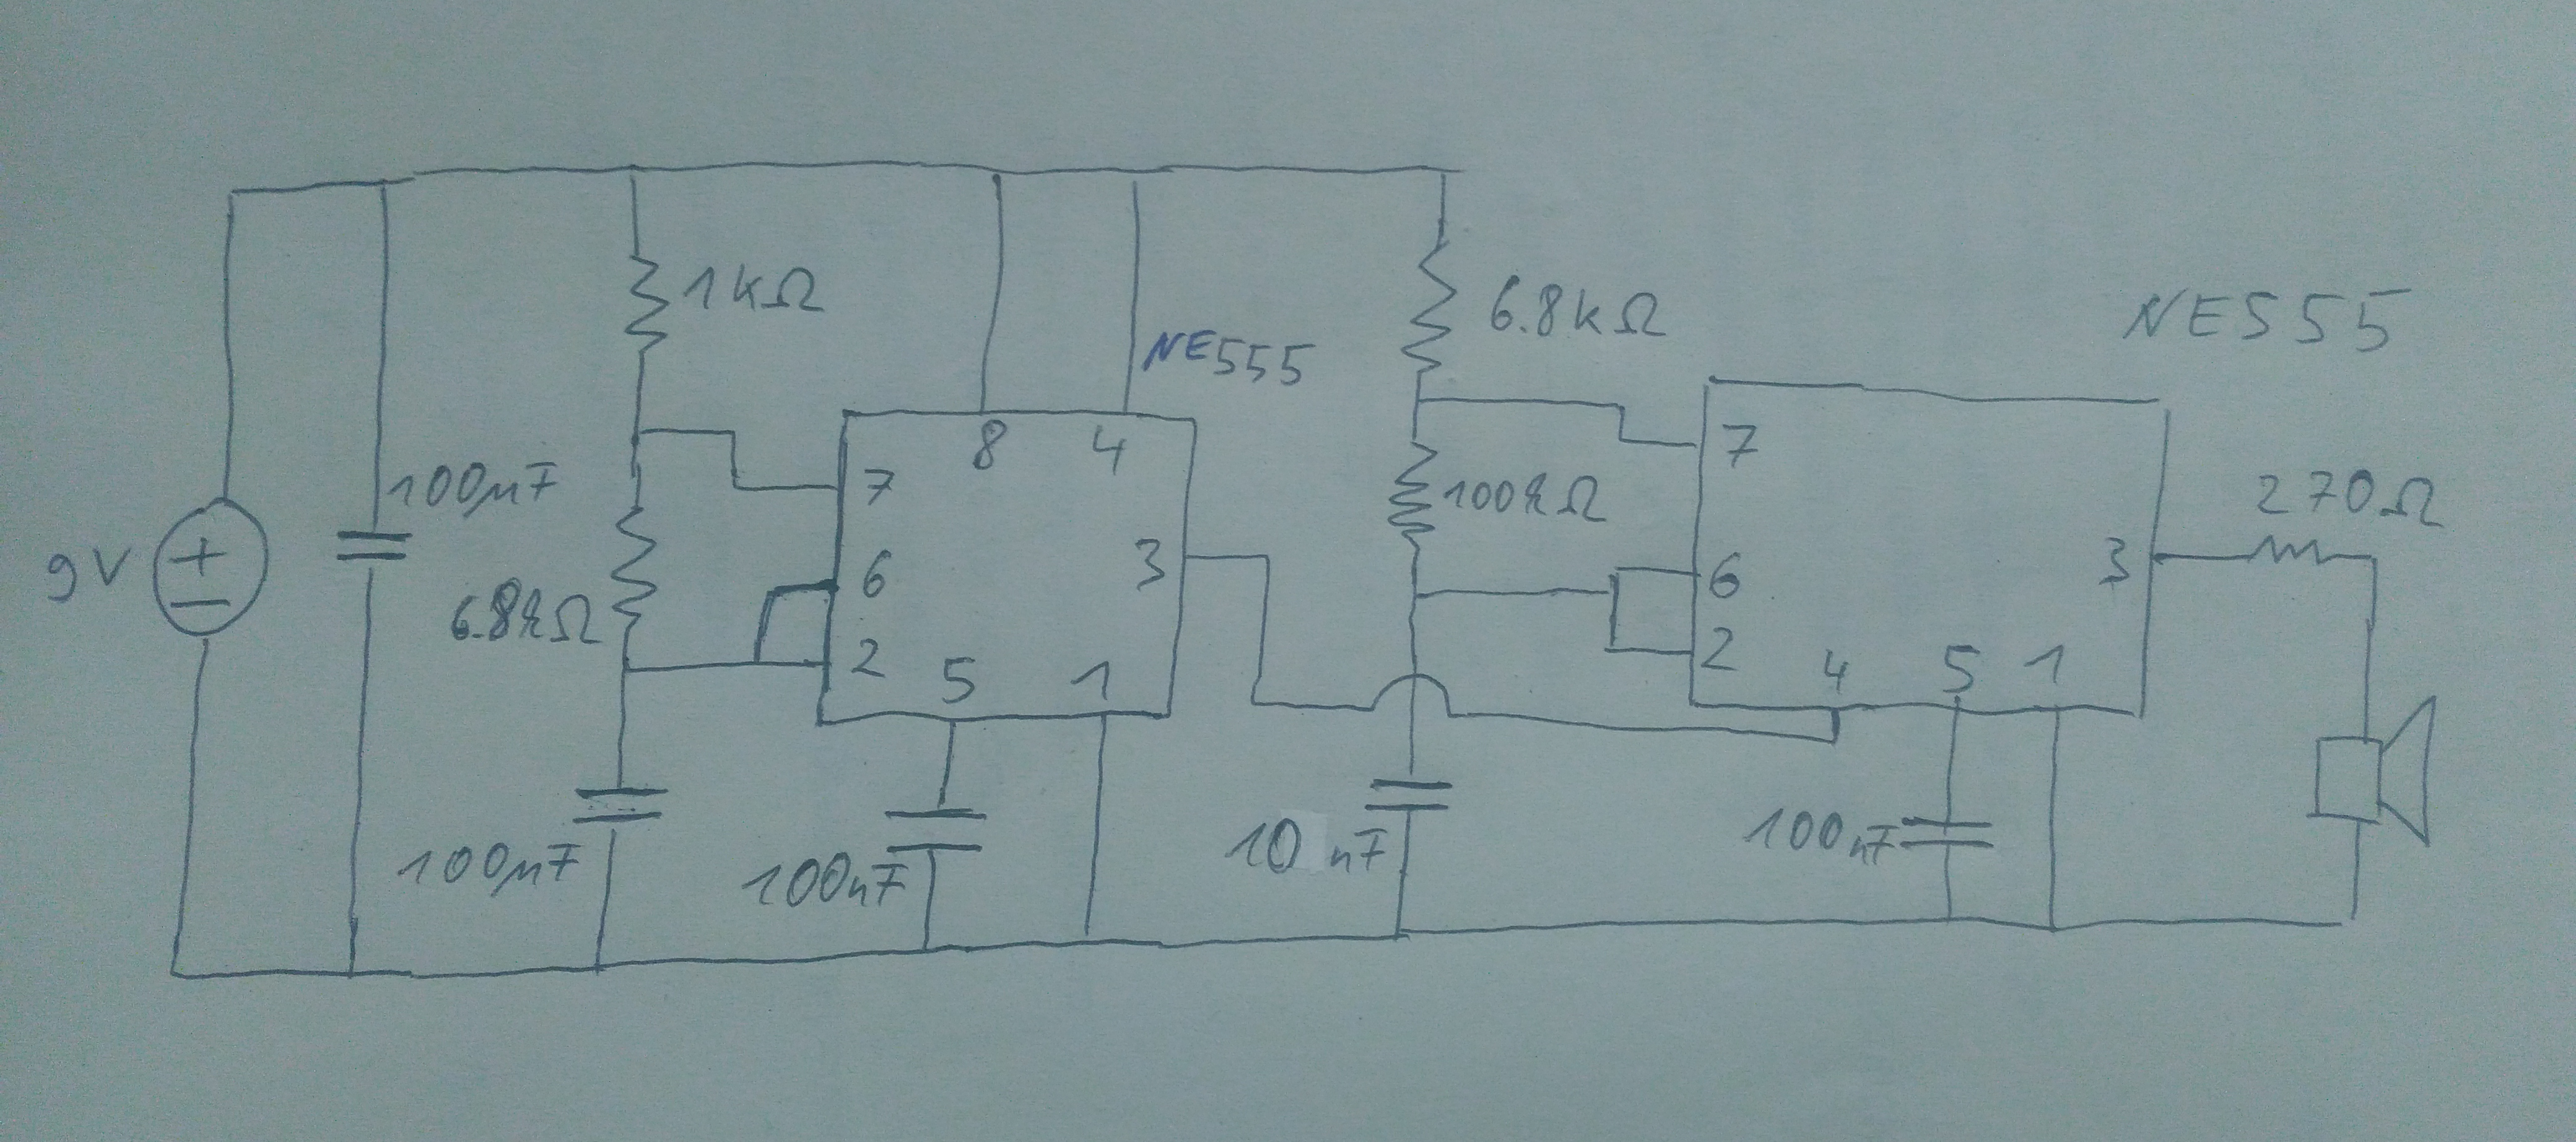capacitor.unpolarized: (881, 804, 991, 859), (570, 781, 670, 828), (330, 524, 417, 570), (1897, 812, 1996, 851), (1362, 776, 1456, 815)
crossover: (1362, 669, 1467, 725)
integrated_cricuit.ne555: (1686, 370, 2183, 726), (808, 404, 1209, 726)
junction: (1111, 150, 1160, 199), (575, 942, 624, 991), (1063, 919, 1112, 961), (904, 928, 948, 974), (2323, 899, 2371, 942), (327, 950, 371, 994), (976, 154, 1020, 197), (1377, 912, 1419, 956), (153, 951, 195, 994), (361, 166, 406, 207), (1929, 900, 1973, 938), (614, 153, 655, 192), (2354, 539, 2392, 582), (214, 177, 253, 217), (1428, 154, 1465, 191), (2035, 910, 2073, 943), (752, 578, 787, 611), (1400, 388, 1437, 417), (1597, 633, 1631, 664), (1239, 687, 1272, 718), (1595, 575, 1625, 610), (1817, 726, 1848, 757), (1603, 559, 1638, 587), (1249, 546, 1280, 575), (721, 475, 754, 503), (1603, 394, 1635, 422), (1403, 580, 1431, 611), (739, 647, 767, 677), (1605, 422, 1635, 450), (611, 657, 639, 685), (718, 424, 749, 449), (628, 422, 652, 449)
resistor: (1396, 232, 1460, 376), (608, 498, 660, 628), (621, 242, 674, 363), (1385, 437, 1441, 544), (2236, 531, 2343, 572)
speaker: (2300, 692, 2449, 854)
text: (2118, 281, 2423, 357), (1485, 273, 1674, 342), (1140, 324, 1319, 393), (447, 575, 608, 651), (2251, 470, 2446, 531), (738, 846, 912, 914), (393, 838, 583, 899), (384, 458, 562, 521), (1224, 813, 1388, 881), (1441, 465, 1612, 524), (1740, 804, 1896, 866), (678, 258, 831, 315), (41, 537, 138, 606), (1695, 623, 1741, 680), (1715, 417, 1759, 475), (1940, 641, 1983, 698), (1068, 656, 1117, 705), (938, 651, 977, 711), (1704, 547, 1746, 603), (2019, 641, 2067, 690), (969, 417, 1009, 477), (1129, 532, 1166, 593), (2096, 531, 2132, 590), (1089, 421, 1129, 475), (1819, 644, 1856, 697), (848, 636, 890, 682), (858, 547, 894, 600), (859, 465, 897, 509)
voltage.dc: (148, 493, 283, 646)
